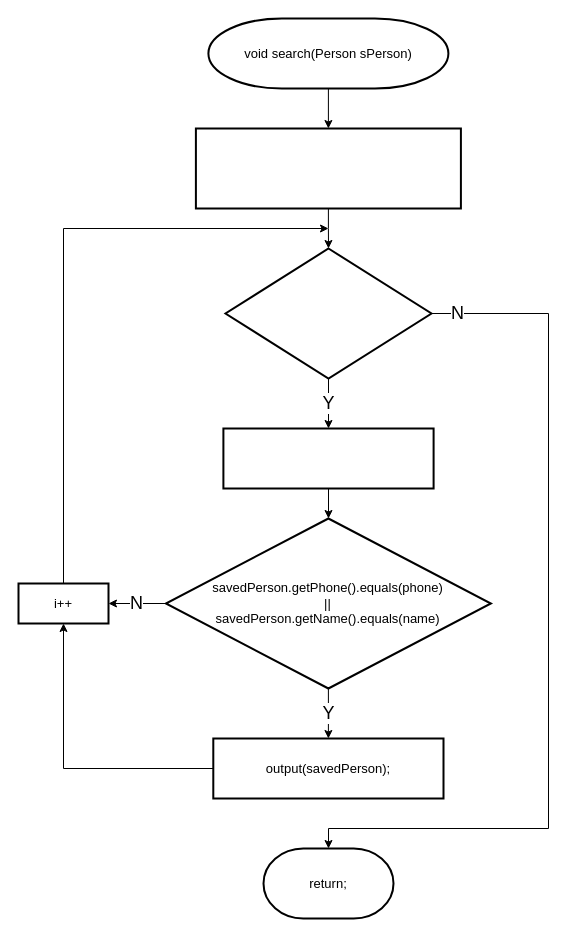
Image size: 574x936. Some labels were removed from this diagram. The centre of each missing label's shape, as x and y in pixels:
"i< v.size()" goes at point 328,313.
"int i = 0; name= sPerson .getName(); phone= sPerson .getPhone();" goes at point 327,168.
"Person savedPerson= v.get(i);" goes at point 328,458.
